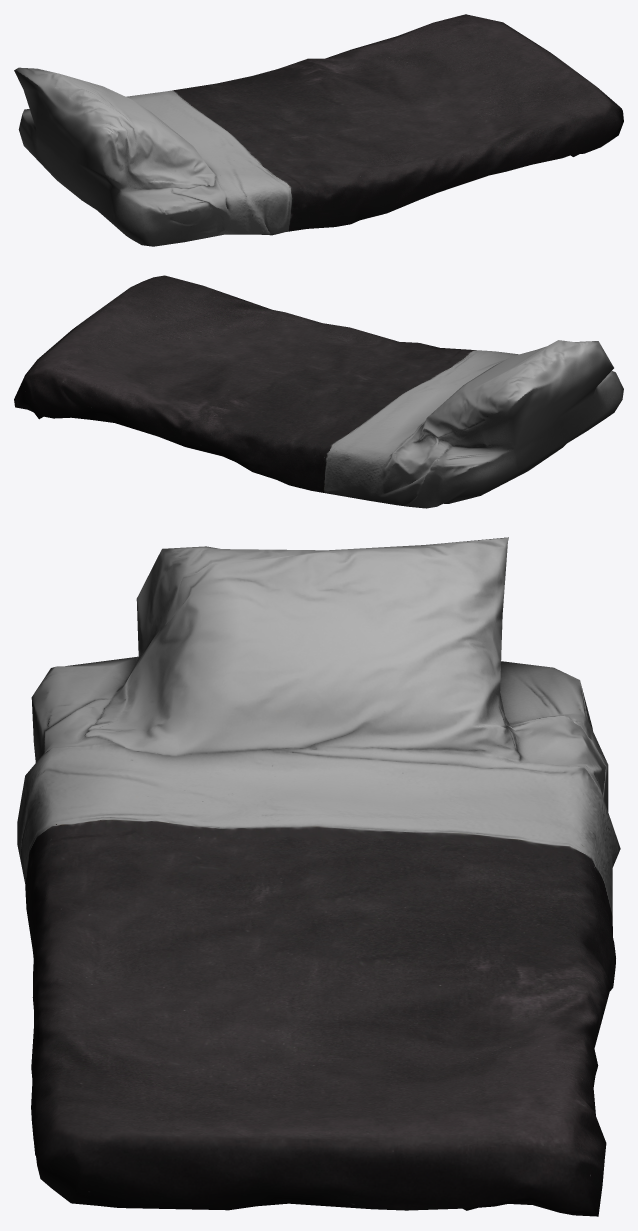
The picture shows the model from 3 angles, top to bottom: view 1: azimuth 30°, elevation 25°; view 2: azimuth 150°, elevation 25°; view 3: azimuth 270°, elevation 25°; orthographic projection. The views are drawn at different scales.
Visible parts, largest first — view 1: t_lp; view 2: t_lp; view 3: t_lp.
Part boxes in pixels (x1,y1,x2,y2): t_lp: (14, 14, 623, 246); t_lp: (14, 275, 623, 508); t_lp: (17, 537, 620, 1216).
Bounding box in the file's own units: 19.8 × 10.49 × 4.53.
